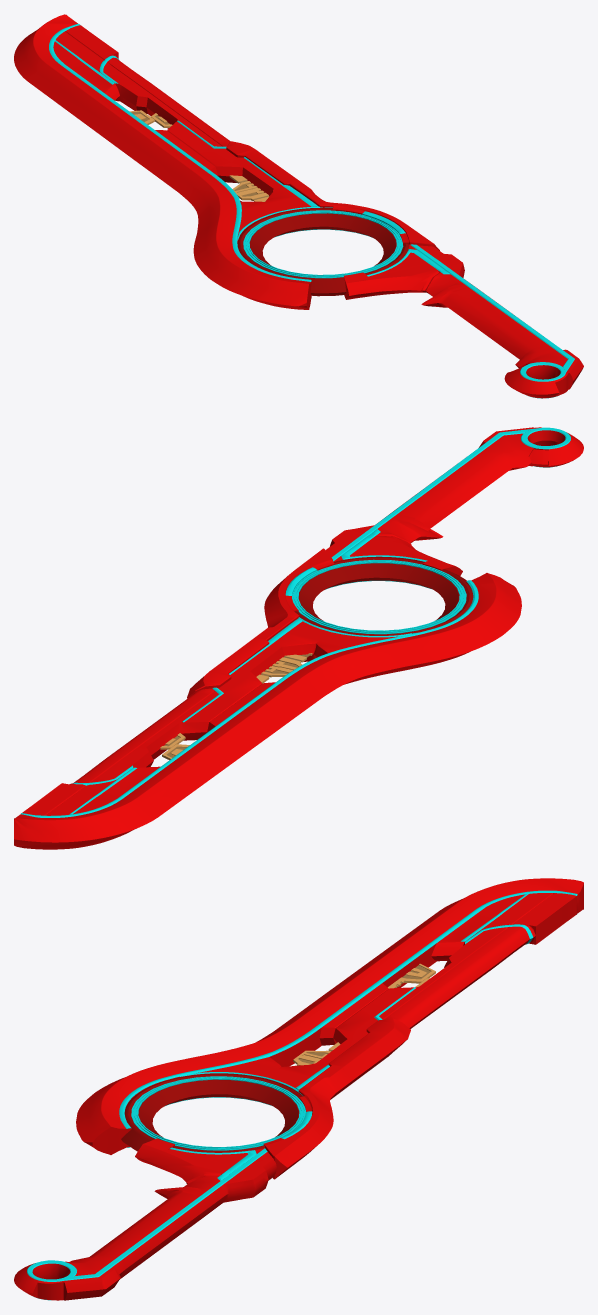
The model's file is monado.fbx.
The picture shows the model from 3 angles, top to bottom: view 1: azimuth 30°, elevation 25°; view 2: azimuth 150°, elevation 25°; view 3: azimuth 330°, elevation 25°; orthographic projection. The views are drawn at different scales.
Parts seen in each view (by area): view 1: Main_1__Cube.004, Main_2_Cube.006, Handle_Cube, Middle_Cylinder.002, Main_1_glow_Cube.007, Middle-glow_Cylinder.006, Pummel_Cylinder, Handle_glow_Cube.001, Main_2_glow_Cube.003, Bright_2_Cube.014; view 2: Main_1__Cube.004, Main_2_Cube.006, Handle_Cube, Middle_Cylinder.002, Main_1_glow_Cube.007, Middle-glow_Cylinder.006, Handle_glow_Cube.001, Pummel_Cylinder, Main_2_glow_Cube.003, Bright_2_Cube.014; view 3: Main_1__Cube.004, Main_2_Cube.006, Handle_Cube, Middle_Cylinder.002, Main_1_glow_Cube.007, Middle-glow_Cylinder.006, Handle_glow_Cube.001, Pummel_Cylinder, Main_2_glow_Cube.003.
Part boxes in pixels (x1=…): Main_1__Cube.004: x1=14, y1=14, x2=311, y2=309; Main_2_Cube.006: x1=103, y1=54, x2=439, y2=250; Handle_Cube: x1=344, y1=244, x2=583, y2=389; Middle_Cylinder.002: x1=237, y1=208, x2=409, y2=296; Main_1_glow_Cube.007: x1=49, y1=23, x2=311, y2=281; Middle-glow_Cylinder.006: x1=243, y1=210, x2=403, y2=278; Pummel_Cylinder: x1=504, y1=365, x2=568, y2=398; Handle_glow_Cube.001: x1=367, y1=244, x2=574, y2=372; Main_2_glow_Cube.003: x1=99, y1=55, x2=405, y2=234; Bright_2_Cube.014: x1=151, y1=113, x2=268, y2=201; Main_1__Cube.004: x1=14, y1=573, x2=521, y2=849; Main_2_Cube.006: x1=70, y1=548, x2=334, y2=784; Handle_Cube: x1=311, y1=427, x2=535, y2=575; Middle_Cylinder.002: x1=295, y1=557, x2=473, y2=635; Main_1_glow_Cube.007: x1=21, y1=580, x2=478, y2=817; Middle-glow_Cylinder.006: x1=292, y1=559, x2=466, y2=634; Handle_glow_Cube.001: x1=331, y1=428, x2=534, y2=561; Pummel_Cylinder: x1=527, y1=427, x2=583, y2=467; Main_2_glow_Cube.003: x1=72, y1=567, x2=331, y2=785; Bright_2_Cube.014: x1=160, y1=653, x2=312, y2=749; Main_1__Cube.004: x1=76, y1=878, x2=583, y2=1154; Main_2_Cube.006: x1=263, y1=924, x2=535, y2=1179; Handle_Cube: x1=62, y1=1138, x2=276, y2=1300; Middle_Cylinder.002: x1=121, y1=1074, x2=302, y2=1152; Main_1_glow_Cube.007: x1=119, y1=890, x2=577, y2=1147; Middle-glow_Cylinder.006: x1=131, y1=1076, x2=305, y2=1150; Handle_glow_Cube.001: x1=62, y1=1147, x2=267, y2=1280; Pummel_Cylinder: x1=14, y1=1263, x2=70, y2=1300; Main_2_glow_Cube.003: x1=265, y1=924, x2=533, y2=1139.
Bounding box in the file's own units: 139 × 17.61 × 600.
